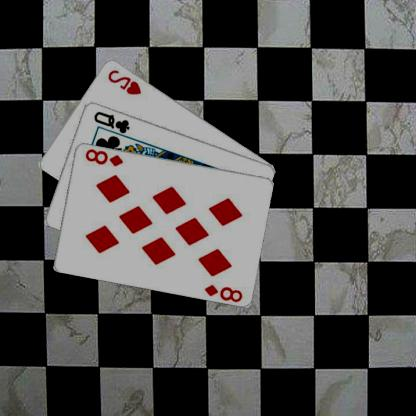2H: (107, 67, 144, 96)
8D: (84, 146, 126, 168), (204, 282, 246, 302)
QC: (93, 109, 132, 134)
